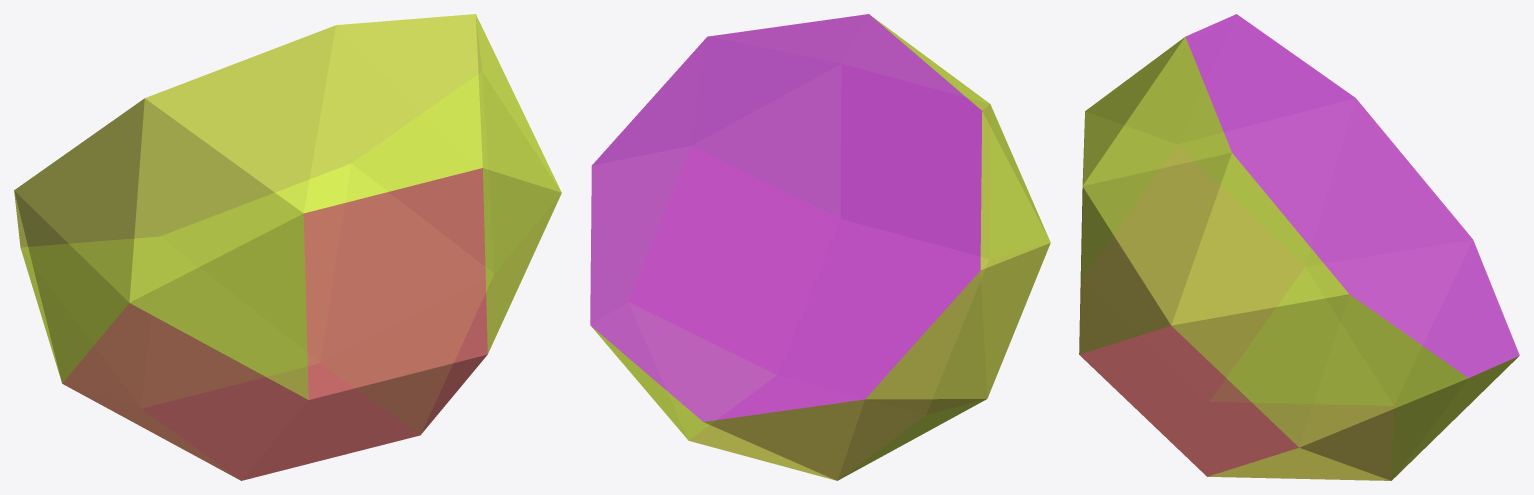
Rendered from j23_gyroelongated_square_cupola.obj.
3 renders of one model, left to right at view 1: azimuth 30°, elevation 25°; view 2: azimuth 150°, elevation 25°; view 3: azimuth 270°, elevation 25°, orthographic. The views are drawn at different scales.
Size of the model in its own units: 1.94 by 1.79 by 1.77.
